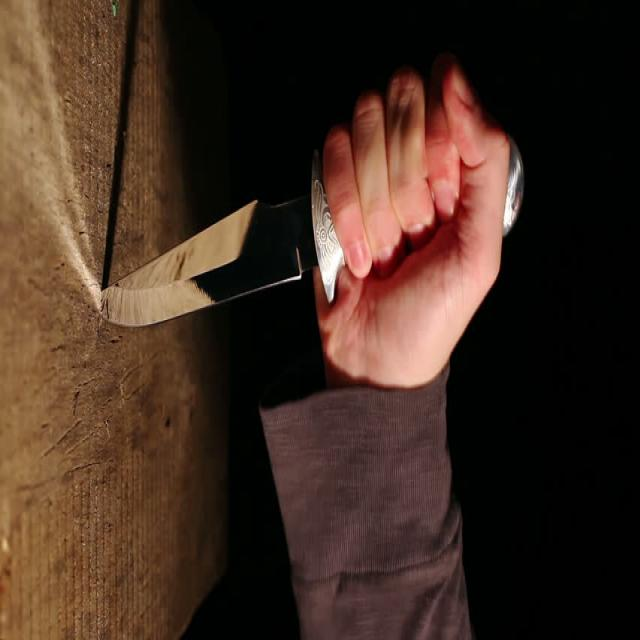knife: (95, 138, 337, 347)
